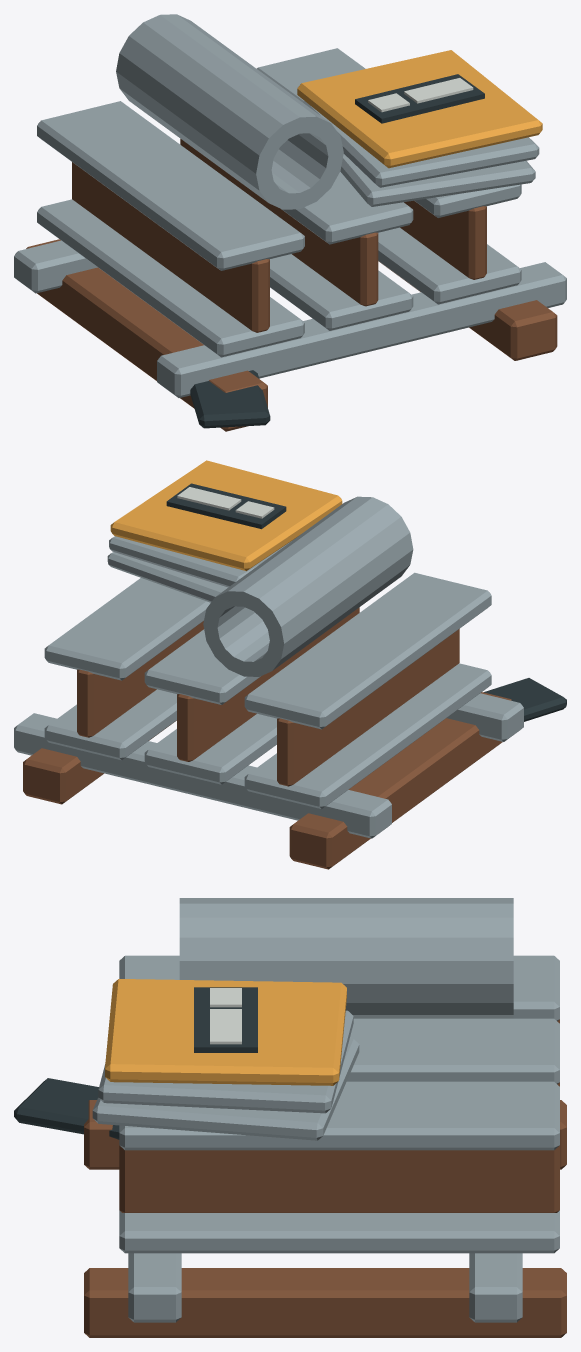
Rendered from materials_depleted_2.glb.
The picture shows the model from 3 angles, top to bottom: view 1: azimuth 30°, elevation 25°; view 2: azimuth 150°, elevation 25°; view 3: azimuth 270°, elevation 25°; orthographic projection. The views are drawn at different scales.
Parts seen in each view (by area): view 1: materials_depleted_2; view 2: materials_depleted_2; view 3: materials_depleted_2.
Part boxes in pixels (<box>): materials_depleted_2: <box>14,14,566,431</box>; materials_depleted_2: <box>14,460,566,869</box>; materials_depleted_2: <box>14,898,566,1337</box>.
Size of the model in its own units: 0.7806 by 0.48 by 0.7784.
